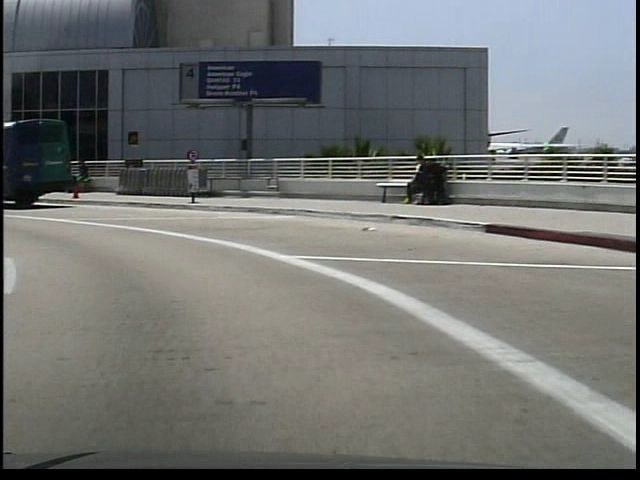person: (72, 156, 92, 197)
